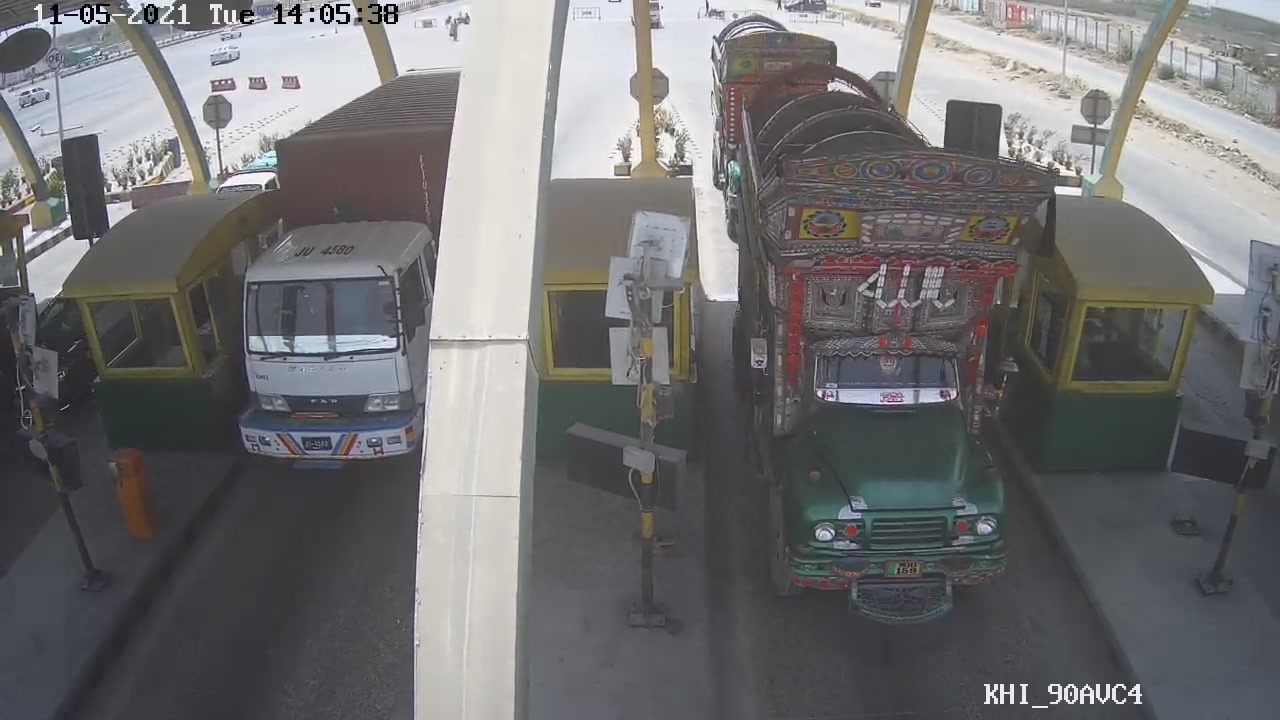F5: (718, 74, 1065, 633)
